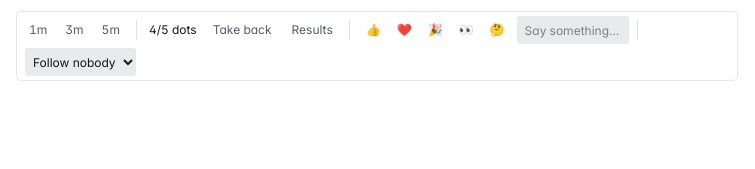
FacilitationBar › lists the results, mine and theirs together
The width and height of the screenshot is (755, 169).
Click the button "Results" at (312, 30), box [284,16,341,44]
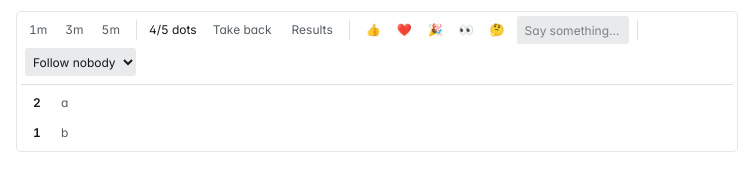
Check: the number of list items is 2, box [25,89,729,117]; [25,119,729,147]
Check: the list item "2 a" is shown, box [25,89,729,117]
